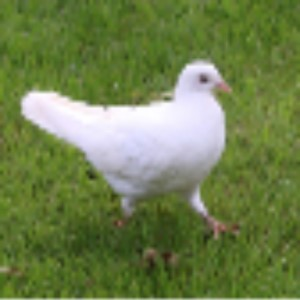pigeon: (19, 54, 245, 241)
